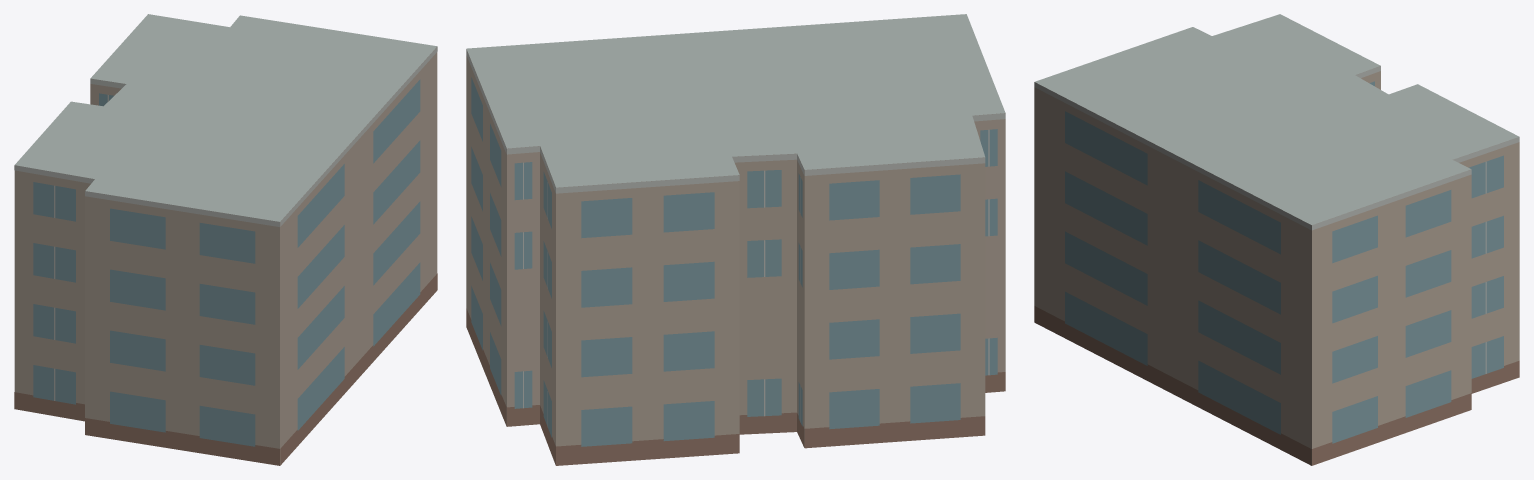
File: survey-upis-32713563.glb
3 views of the same model, side by side, from view 1: azimuth 30°, elevation 25°; view 2: azimuth 150°, elevation 25°; view 3: azimuth 270°, elevation 25° (orthographic). The views are drawn at different scales.
Parts seen in each view (by area): view 1: survey-upis-32713563.tmp; view 2: survey-upis-32713563.tmp; view 3: survey-upis-32713563.tmp.
Boxes of the visible parts, x1=… form: survey-upis-32713563.tmp: x1=14, y1=14, x2=437, y2=465; survey-upis-32713563.tmp: x1=466, y1=14, x2=1005, y2=465; survey-upis-32713563.tmp: x1=1034, y1=14, x2=1519, y2=465.
Size of the model in its own units: 21.24 by 11.27 by 20.61.
